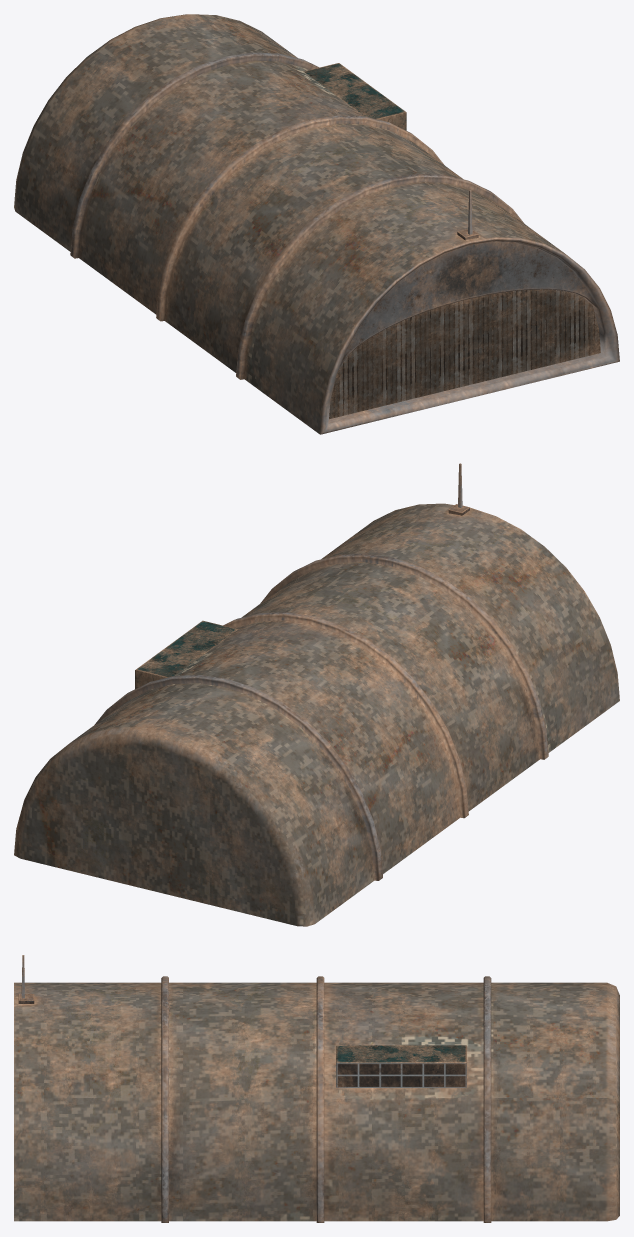
The picture shows the model from 3 angles, top to bottom: view 1: azimuth 30°, elevation 25°; view 2: azimuth 150°, elevation 25°; view 3: azimuth 270°, elevation 25°; orthographic projection. The views are drawn at different scales.
Parts seen in each view (by area): view 1: Object_3, Object_2; view 2: Object_3, Object_2; view 3: Object_3, Object_2.
Boxes of the visible parts, box(x1,y1,x2,y2) form: Object_3: box(14, 14, 619, 434); Object_2: box(303, 63, 600, 419); Object_3: box(14, 503, 619, 926); Object_2: box(135, 463, 469, 688); Object_3: box(14, 976, 619, 1222); Object_2: box(18, 955, 466, 1087).
Bounding box in the file's own units: 1279 × 799 × 2224.
2 materials, 2 textured.
